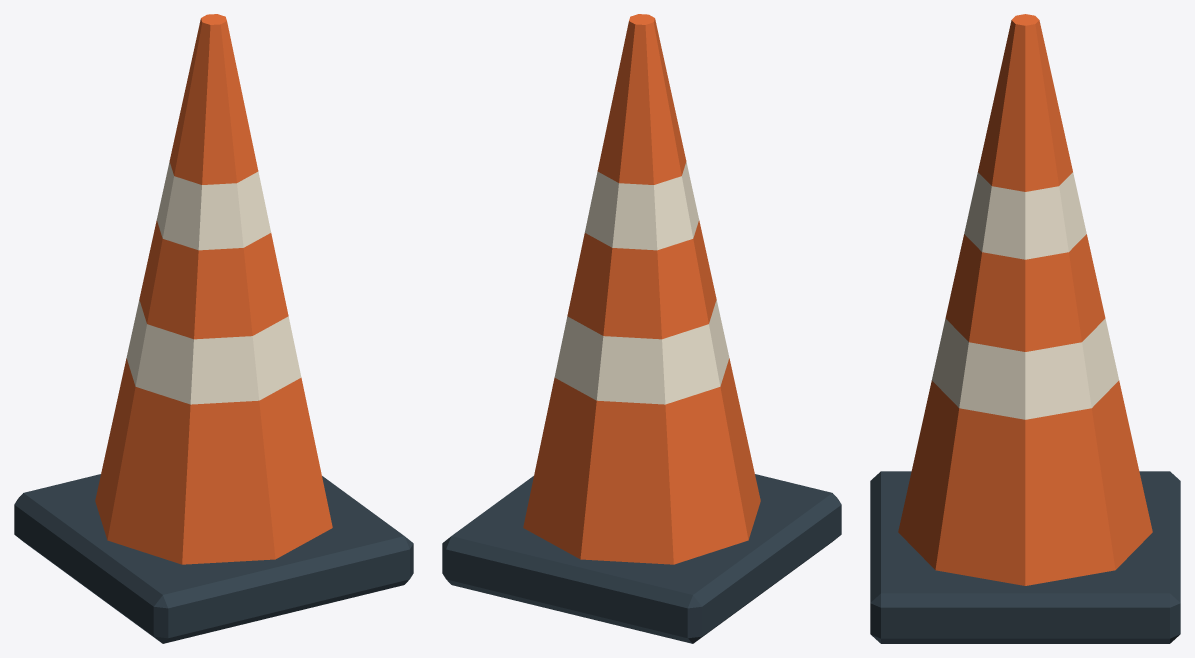
The model's file is traffic-cone.glb.
3 renders of one model, left to right at view 1: azimuth 30°, elevation 25°; view 2: azimuth 150°, elevation 25°; view 3: azimuth 270°, elevation 25°, orthographic. The views are drawn at different scales.
Parts seen in each view (by area): view 1: traffic_cone; view 2: traffic_cone; view 3: traffic_cone.
Boxes of the visible parts, left/top/right/bottom form: traffic_cone: left=14, top=14, right=413, bottom=643; traffic_cone: left=442, top=14, right=841, bottom=643; traffic_cone: left=870, top=14, right=1180, bottom=643.
Bounding box in the file's own units: 0.6 × 1.2 × 0.6.
